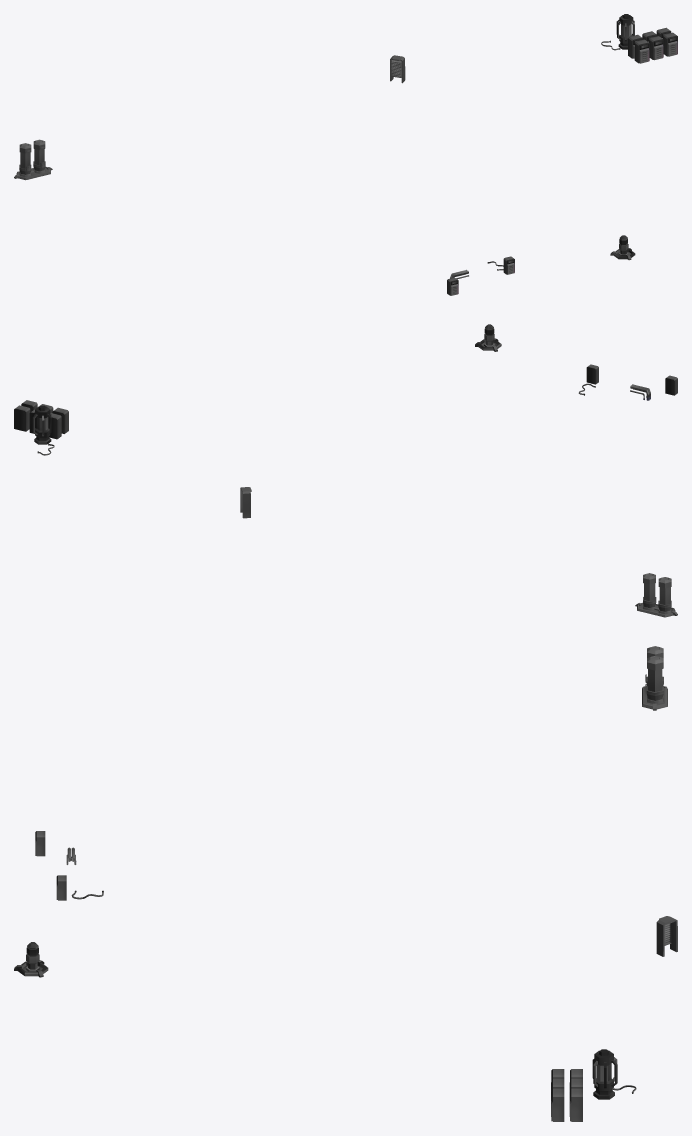
Rendered from prop objects.FBX.
3 renders of one model, top to bottom at view 1: azimuth 30°, elevation 25°; view 2: azimuth 150°, elevation 25°; view 3: azimuth 270°, elevation 25°, orthographic. The views are drawn at different scales.
Parts seen in each view (by area): view 1: SpecimenContainerD_mesh, SpecimenContainerB_mesh001; view 2: SpecimenContainerD_mesh, SpecimenContainerB_mesh001; view 3: SpecimenContainerD_mesh, SpecimenContainerB_mesh001, LabSampleTrays_mesh.
Part boxes in pixels (x1,y1,x2,y2): SpecimenContainerD_mesh: (14, 139, 52, 180); SpecimenContainerB_mesh001: (616, 14, 634, 49); SpecimenContainerD_mesh: (635, 573, 677, 617); SpecimenContainerB_mesh001: (32, 405, 51, 444); SpecimenContainerD_mesh: (642, 646, 667, 710); SpecimenContainerB_mesh001: (592, 1049, 617, 1099); LabSampleTrays_mesh: (656, 916, 677, 956).
Size of the model in its own units: 5789 by 377 by 3743.
